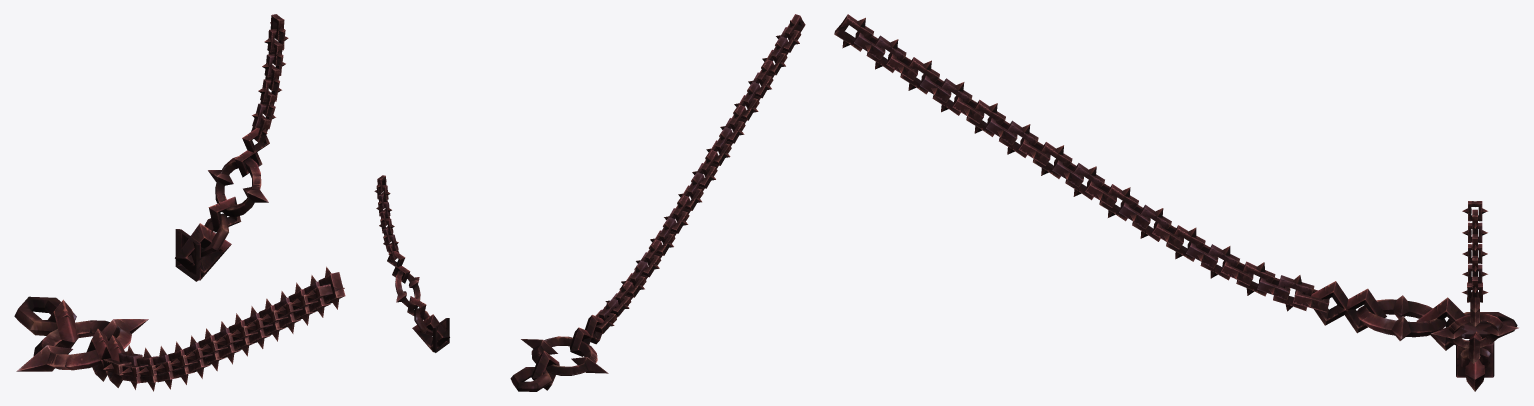
File: mesh_tower_chain04.FBX
3 views of the same model, side by side, from view 1: azimuth 30°, elevation 25°; view 2: azimuth 150°, elevation 25°; view 3: azimuth 270°, elevation 25° (orthographic). The views are drawn at different scales.
Parts seen in each view (by area): view 1: mesh_tower_chain04; view 2: mesh_tower_chain04; view 3: mesh_tower_chain04.
Part boxes in pixels (x1=…): mesh_tower_chain04: x1=14, y1=14, x2=345, y2=391; mesh_tower_chain04: x1=374, y1=14, x2=805, y2=391; mesh_tower_chain04: x1=834, y1=14, x2=1518, y2=391.
Bounding box in the file's own units: 15.56 × 16.16 × 32.14.
